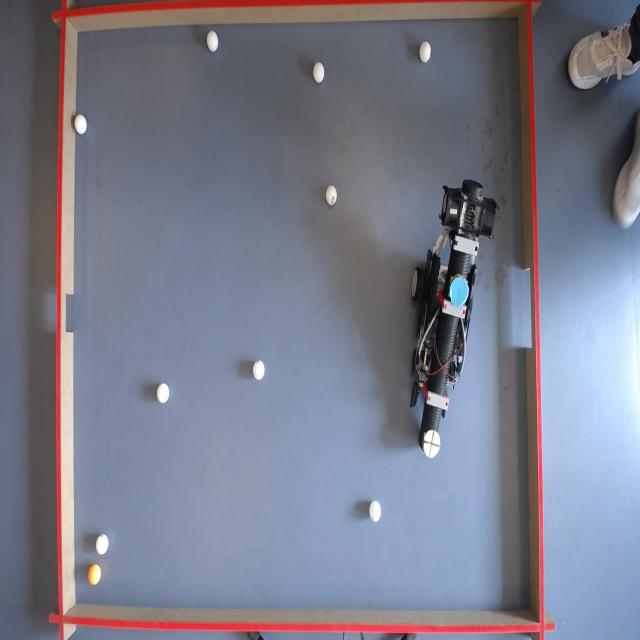orange: (90, 564, 104, 586)
robot: (406, 182, 501, 462)
robot-front: (423, 428, 441, 459)
robot-rear: (450, 276, 470, 308)
white: (368, 500, 382, 522), (420, 41, 433, 64), (158, 383, 172, 404), (252, 360, 266, 381), (96, 534, 110, 555), (74, 115, 88, 136), (313, 62, 326, 84), (207, 31, 220, 52), (325, 184, 337, 205)
